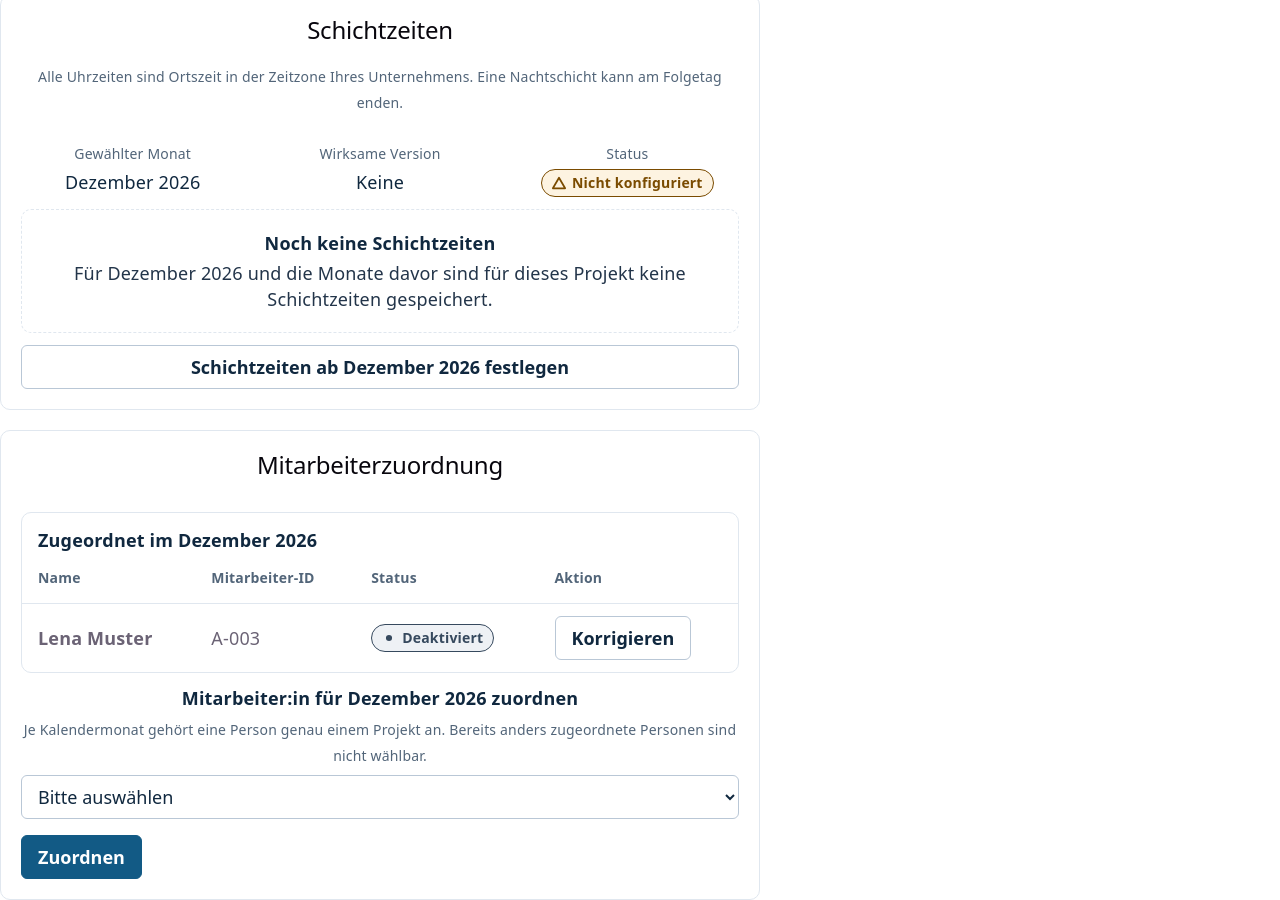
Test: SP-09 — month assignment (UX A09, real API source) › a server conflict is explained, nothing is changed silently, and the reloaded view names the other project
The image size is (1280, 900).
(page scrolled)
Select "Jonas Albrecht (A-002)" in the dropdown labelled "Mitarbeiter:in für Dezember 2026 zuordnen": (380, 797) [21, 775, 739, 819]
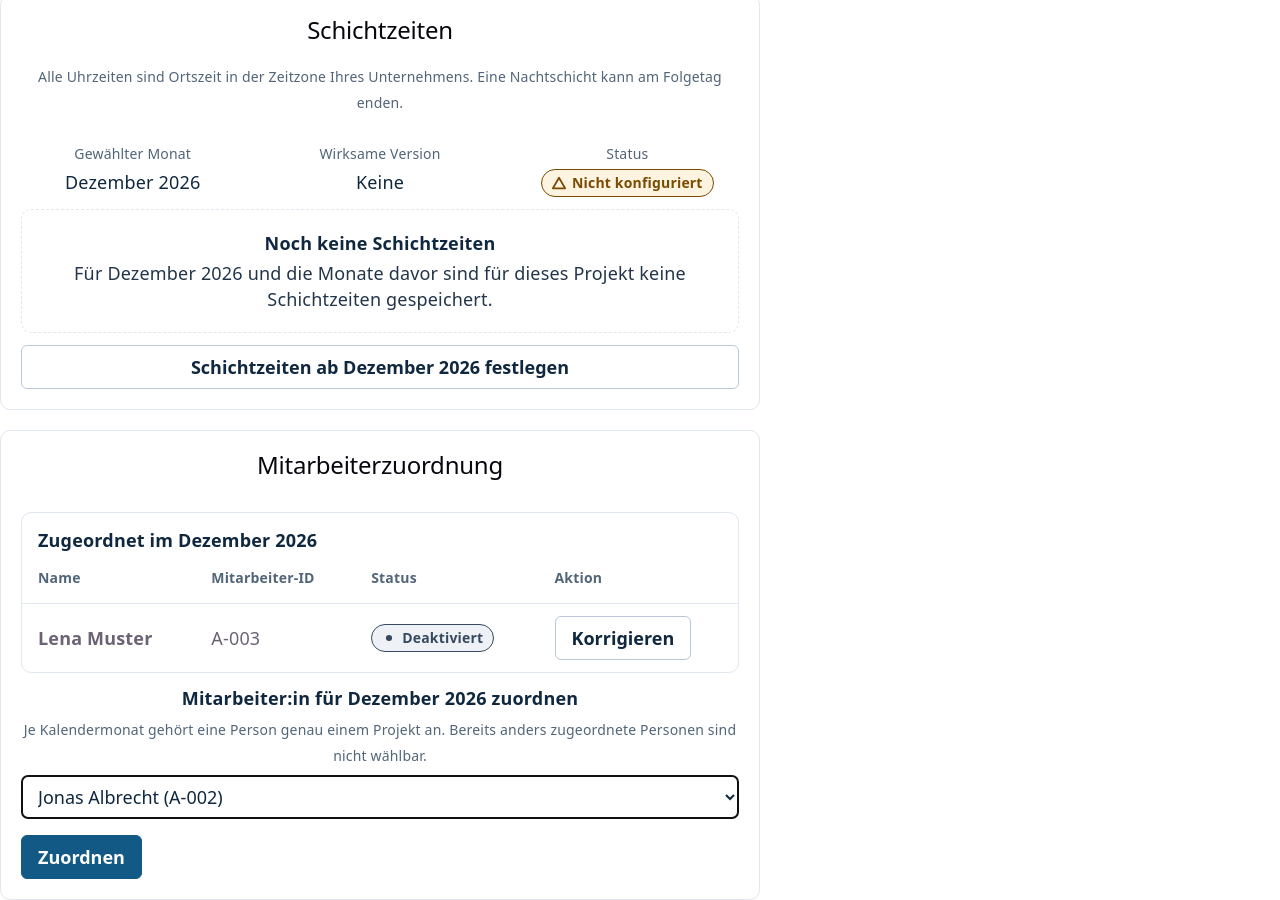
Click the button "Zuordnen": (81, 857) [21, 835, 142, 879]
(page scrolled)
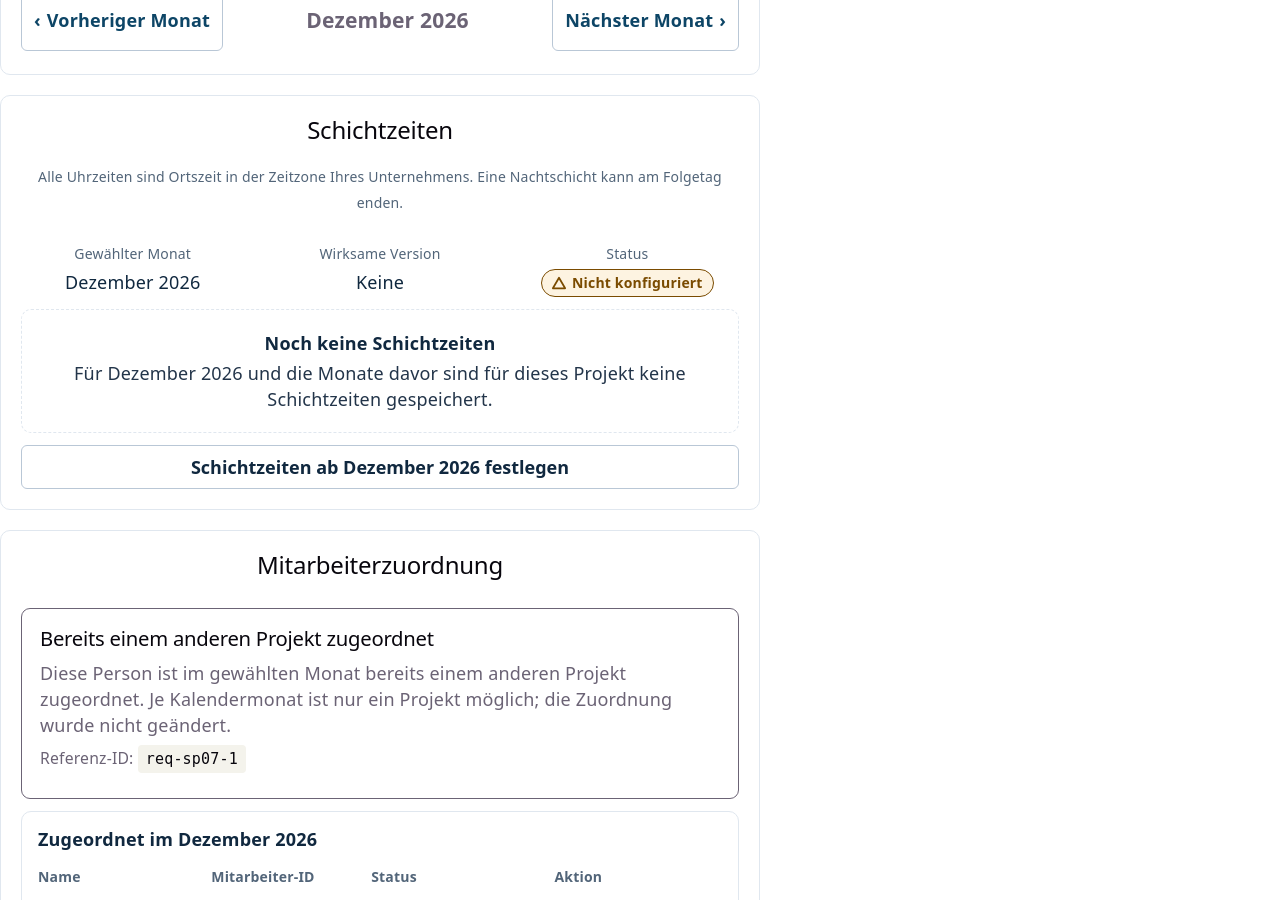
Expected: the text "Jonas Albrecht" is not shown
Now the message shows "Bereits einem anderen Projekt zugeordnet", box [40, 624, 434, 652]
Now the message shows "Je Kalendermonat ist nur ein Projekt möglich", box [40, 661, 672, 737]
